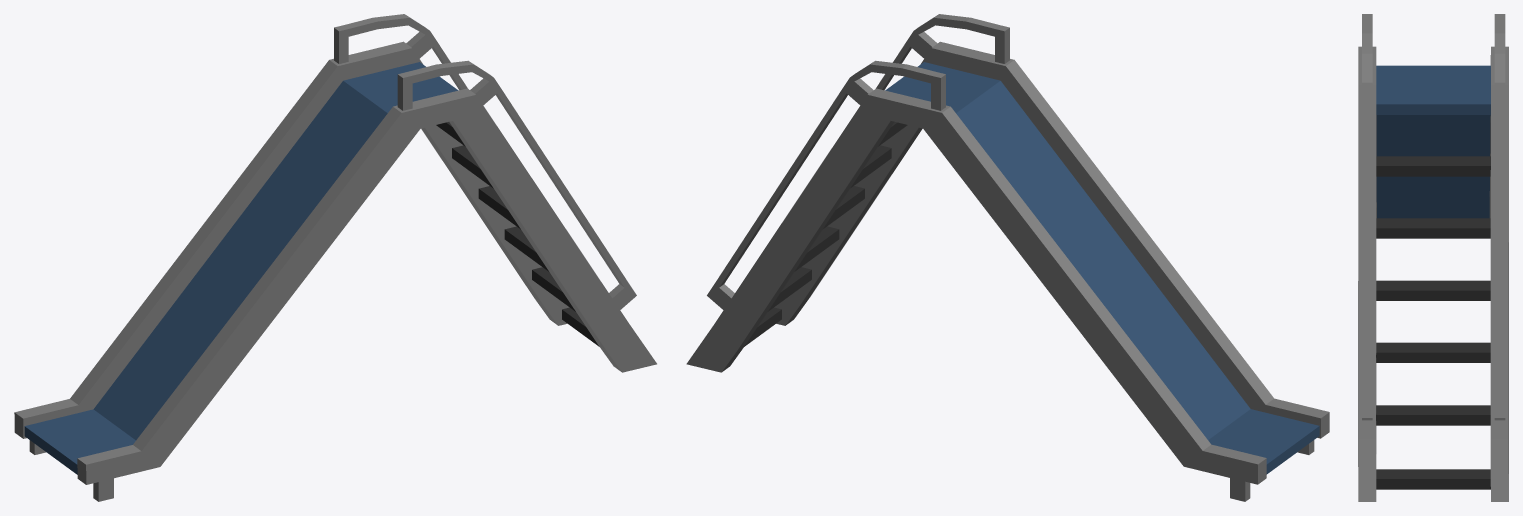
The model's file is Slide.fbx.
3 renders of one model, left to right at view 1: azimuth 30°, elevation 25°; view 2: azimuth 150°, elevation 25°; view 3: azimuth 270°, elevation 25°, orthographic. The views are drawn at different scales.
Parts seen in each view (by area): view 1: Cube.008, Cube.011, Cube.009, Cube.001, Cube.019, Cube, Cube.021; view 2: Cube.008, Cube.009, Cube.011, Cube, Cube.021, Cube.001, Cube.019; view 3: Cube.008, Cube.021, Cube.001, Cube, Cube.019, Cube.002, Cube.003, Cube.004, Cube.005, Cube.006, Cube.007, Cube.009 (+1 smaller).
Part boxes in pixels (x1,y1,x2,y2): Cube.008: (24,62,458,474); Cube.011: (77,88,475,484); Cube.009: (14,41,411,438); Cube.001: (449,95,656,372); Cube.019: (397,60,636,309); Cube: (395,48,569,325); Cube.021: (334,14,467,90); Cube.008: (885,62,1319,474); Cube.009: (868,88,1266,484); Cube.011: (932,41,1329,438); Cube: (686,95,894,372); Cube.021: (707,60,945,309); Cube.001: (774,48,948,325); Cube.019: (876,14,1009,90); Cube.008: (1376,65,1490,218); Cube.021: (1494,14,1505,420); Cube.001: (1358,84,1376,501); Cube: (1490,84,1508,501); Cube.019: (1362,14,1372,420); Cube.002: (1376,469,1490,489); Cube.003: (1376,405,1490,425); Cube.004: (1376,342,1490,362); Cube.005: (1376,280,1490,300); Cube.006: (1376,218,1490,238); Cube.007: (1376,156,1490,176); Cube.009: (1489,46,1508,218).
Bounding box in the file's own units: 826 × 484 × 182.
